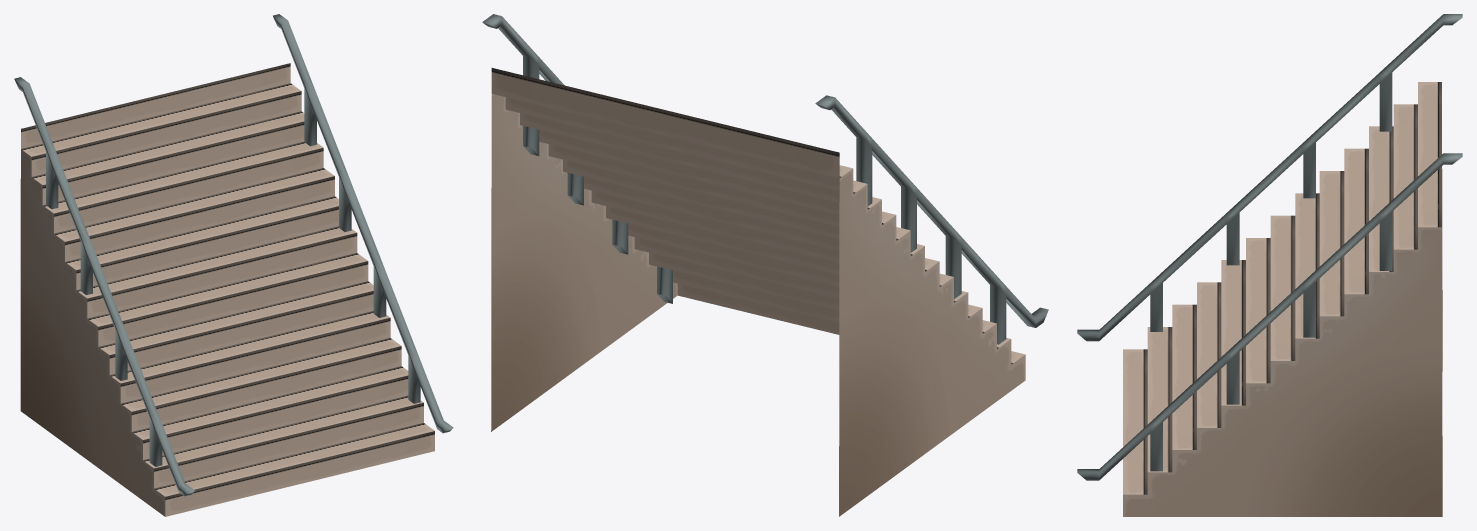
File: escalier.fbx
The picture shows the model from 3 angles, left to right: view 1: azimuth 30°, elevation 25°; view 2: azimuth 150°, elevation 25°; view 3: azimuth 270°, elevation 25°; orthographic projection. The views are drawn at different scales.
Parts seen in each view (by area): view 1: escalier; view 2: escalier; view 3: escalier.
Boxes of the visible parts, x1=… form: escalier: x1=14, y1=14, x2=453, y2=516; escalier: x1=482, y1=14, x2=1048, y2=516; escalier: x1=1077, y1=14, x2=1462, y2=516.
Bounding box in the file's own units: 200 × 230 × 224.
